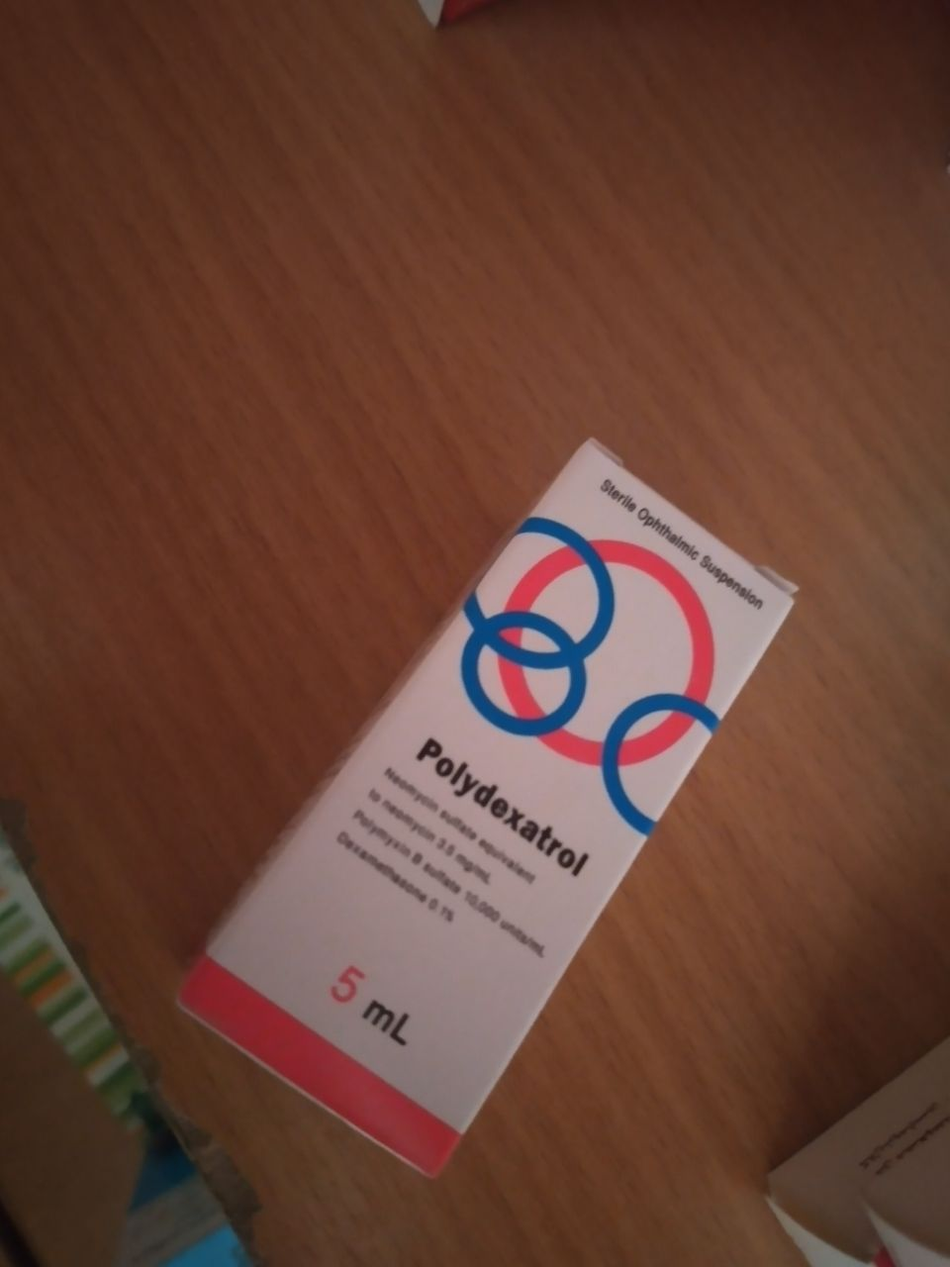Medicine: (172, 429, 802, 1204)
